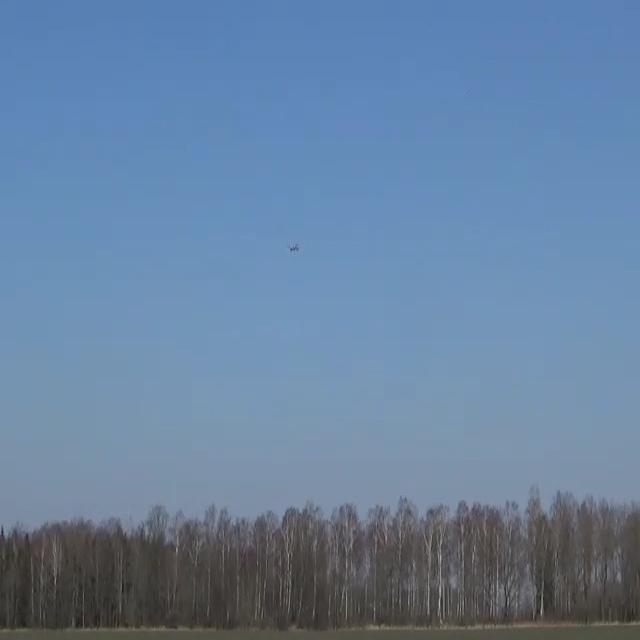drone: (287, 242, 299, 252)
